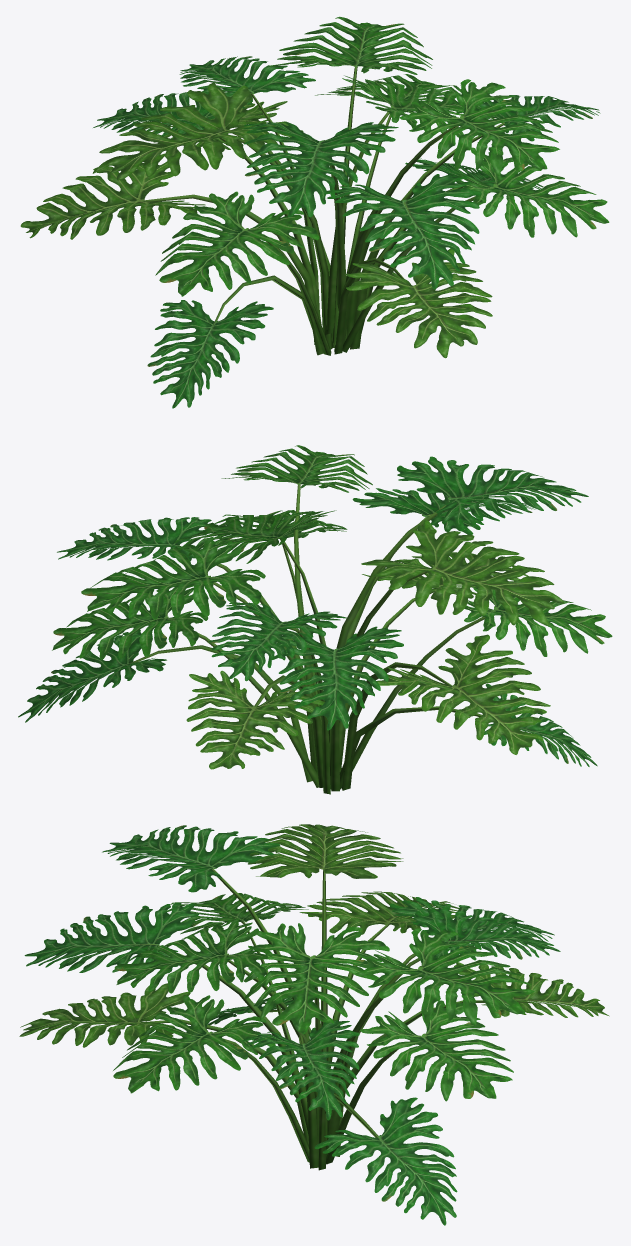
Rendered from plant_Philodendron.FBX.
3 views of the same model, one above another, from view 1: azimuth 30°, elevation 25°; view 2: azimuth 150°, elevation 25°; view 3: azimuth 270°, elevation 25° (orthographic).
Parts seen in each view (by area): view 1: philodendron_Stems, philodendron_Leaf_14, philodendron_Leaf_05, philodendron_Leaf_06, philodendron_Leaf_08, philodendron_Leaf_01, philodendron_Leaf_03, philodendron_Leaf_16, philodendron_Leaf_07, philodendron_Leaf_11, philodendron_Leaf_13, philodendron_Leaf_12 (+6 smaller); view 2: philodendron_Stems, philodendron_Leaf_05, philodendron_Leaf_07, philodendron_Leaf_13, philodendron_Leaf_17, philodendron_Leaf_02, philodendron_Leaf_08, philodendron_Leaf_09, philodendron_Leaf_12, philodendron_Leaf_10, philodendron_Leaf_06, philodendron_Leaf_04 (+6 smaller); view 3: philodendron_Stems, philodendron_Leaf_15, philodendron_Leaf_13, philodendron_Leaf_10, philodendron_Leaf_09, philodendron_Leaf_11, philodendron_Leaf_14, philodendron_Leaf_08, philodendron_Leaf_03, philodendron_Leaf_05, philodendron_Leaf_04, philodendron_Leaf_01 (+5 smaller).
Boxes of the visible parts, x1,y1,x2,y2 form: philodendron_Stems: (140,67,504,355); philodendron_Leaf_14: (326,174,480,289); philodendron_Leaf_05: (92,83,303,180); philodendron_Leaf_06: (155,191,319,296); philodendron_Leaf_08: (243,122,398,217); philodendron_Leaf_01: (345,248,492,358); philodendron_Leaf_03: (399,79,559,176); philodendron_Leaf_16: (147,300,273,408); philodendron_Leaf_07: (20,153,205,239); philodendron_Leaf_11: (455,147,609,237); philodendron_Leaf_13: (267,16,432,74); philodendron_Leaf_12: (179,56,315,101); philodendron_Stems: (125,484,520,794); philodendron_Leaf_05: (361,520,564,625); philodendron_Leaf_07: (376,634,550,754); philodendron_Leaf_13: (81,537,265,619); philodendron_Leaf_17: (272,626,403,730); philodendron_Leaf_02: (186,670,324,769); philodendron_Leaf_08: (397,456,588,531); philodendron_Leaf_09: (52,584,208,659); philodendron_Leaf_12: (207,602,346,681); philodendron_Leaf_10: (18,629,166,722); philodendron_Leaf_06: (464,586,612,656); philodendron_Leaf_04: (57,517,211,561); philodendron_Stems: (128,868,541,1170); philodendron_Leaf_15: (244,923,389,1034); philodendron_Leaf_13: (355,928,534,1025); philodendron_Leaf_10: (314,1097,457,1225); philodendron_Leaf_09: (360,998,513,1101); philodendron_Leaf_11: (113,995,275,1093); philodendron_Leaf_14: (24,902,198,973); philodendron_Leaf_08: (102,825,280,892); philodendron_Leaf_03: (114,918,272,993); philodendron_Leaf_05: (248,824,403,878); philodendron_Leaf_04: (243,1020,359,1120); philodendron_Leaf_01: (19,983,190,1047).
Size of the model in its own units: 115 by 56.09 by 112.
